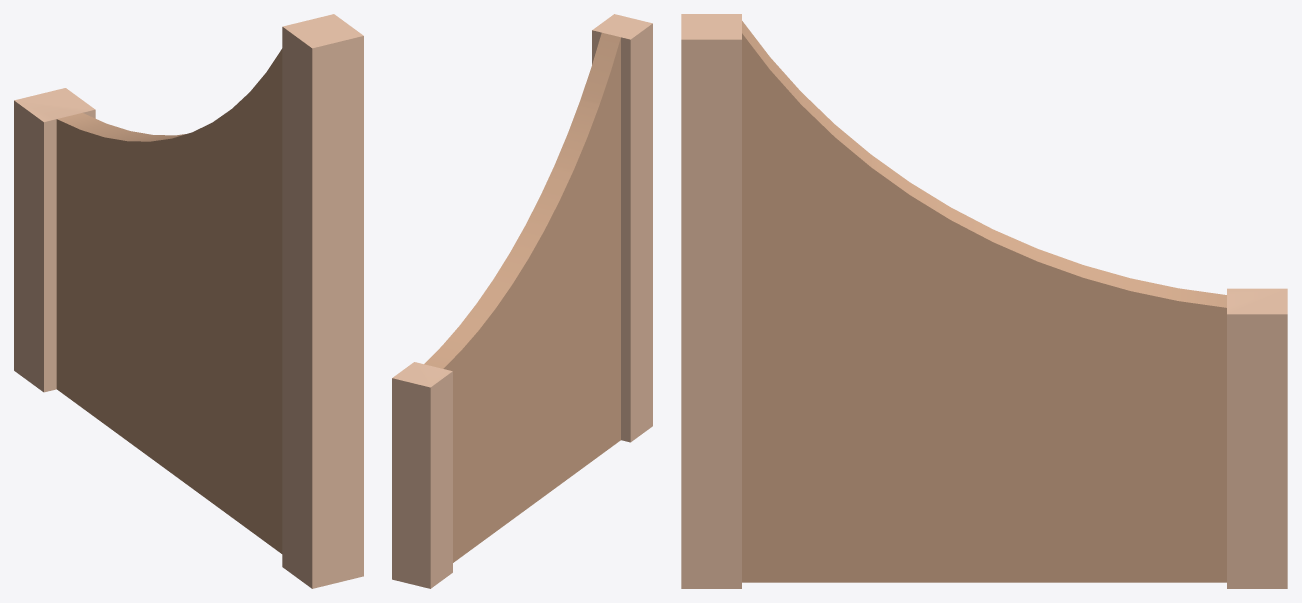
3 views of the same model, side by side, from view 1: azimuth 30°, elevation 25°; view 2: azimuth 150°, elevation 25°; view 3: azimuth 270°, elevation 25° (orthographic). The views are drawn at different scales.
Parts seen in each view (by area): view 1: wallWoodSlope; view 2: wallWoodSlope; view 3: wallWoodSlope.
Boxes of the visible parts, x1,y1,x2,y2 form: wallWoodSlope: (14, 14, 363, 588); wallWoodSlope: (392, 14, 652, 588); wallWoodSlope: (681, 14, 1287, 588).
Bounding box in the file's own units: 0.1 × 1 × 1.
